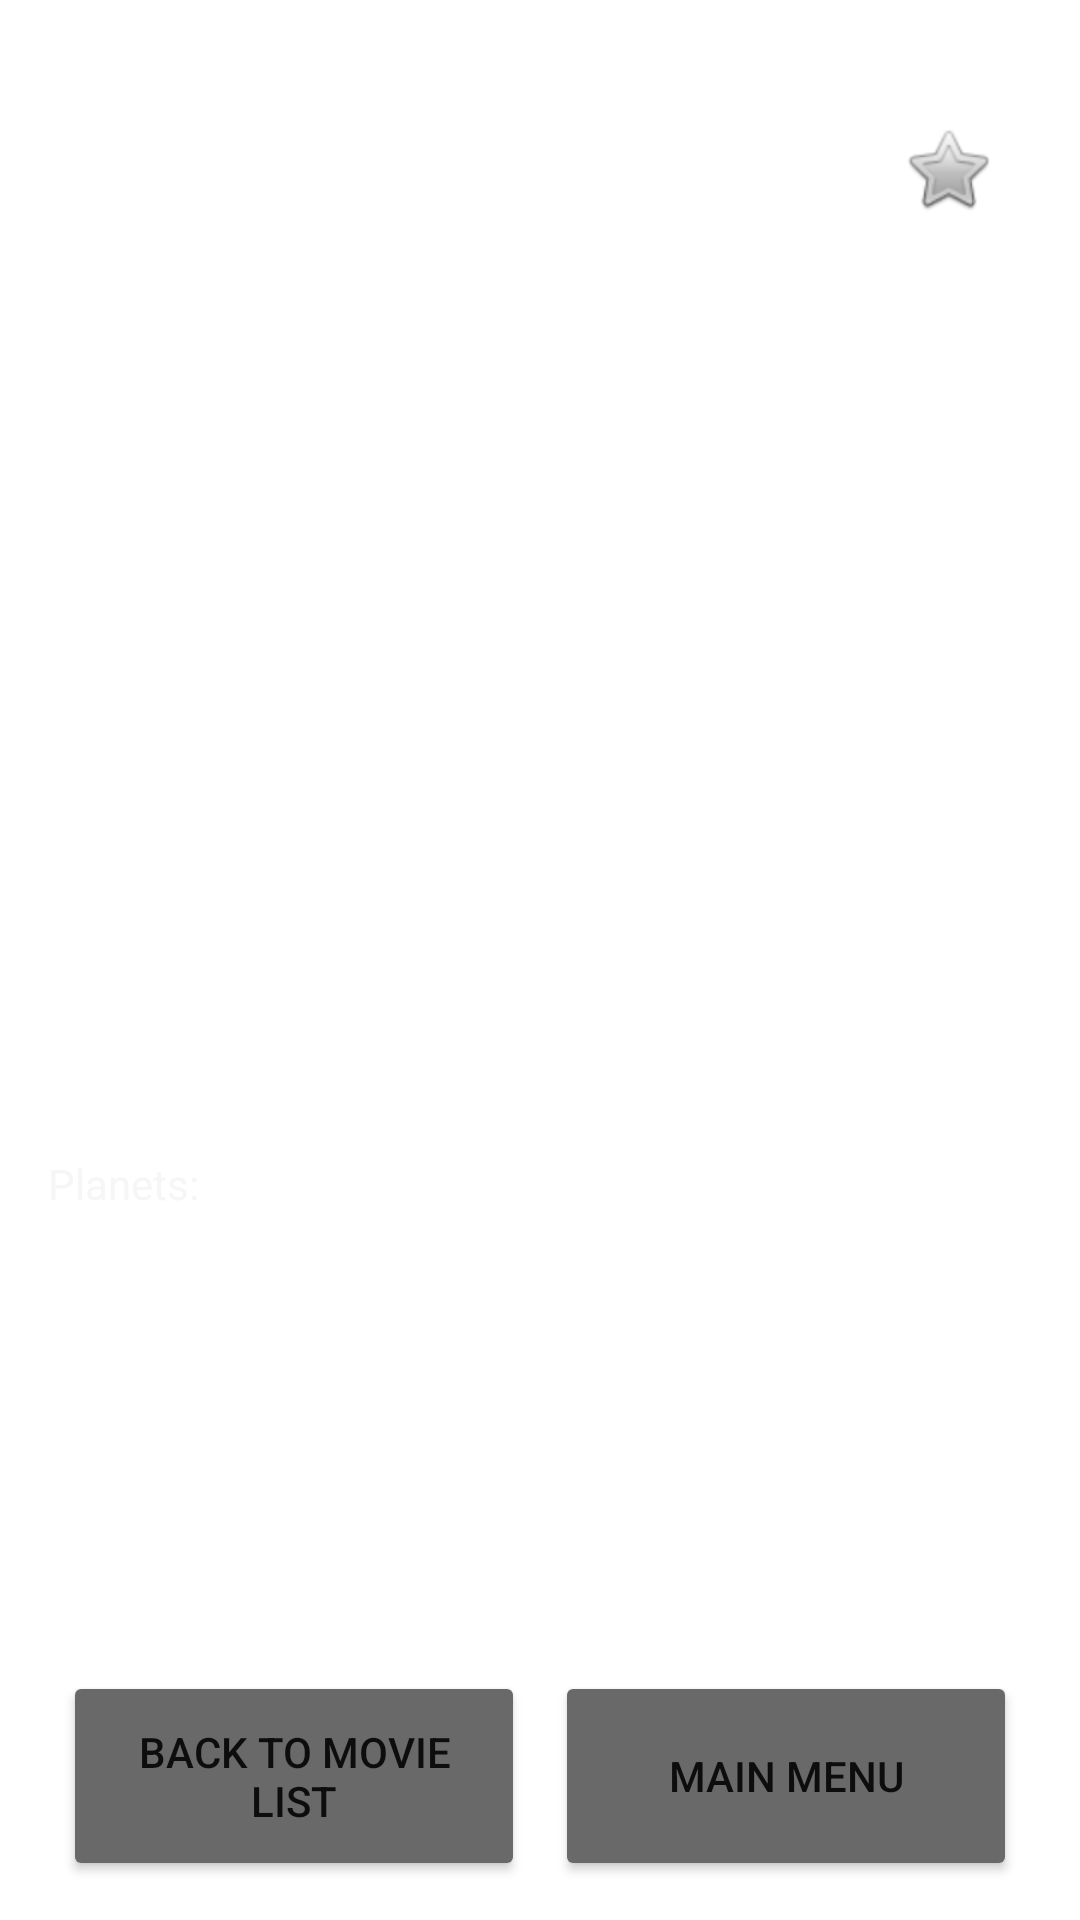

Where icons sit on this 1080px×1920px app screen, as (x1, y1, x2, y2):
star off: (909, 131, 989, 209)
